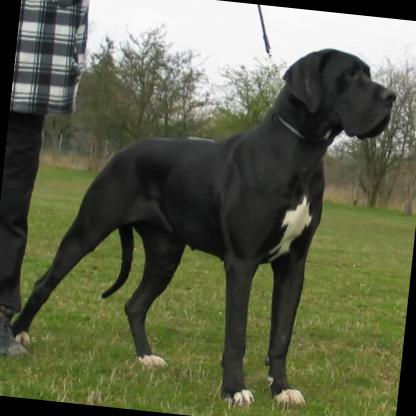Great_Dane: (5, 17, 400, 416)
